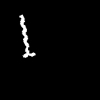half_double_crochet: (20, 15, 34, 57)
